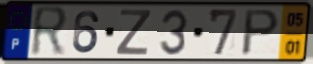3: (158, 8, 190, 57)
6: (73, 9, 101, 55)
7: (207, 8, 241, 57)
P: (239, 8, 282, 58)
R: (29, 5, 71, 60)
Z: (114, 7, 154, 56)
